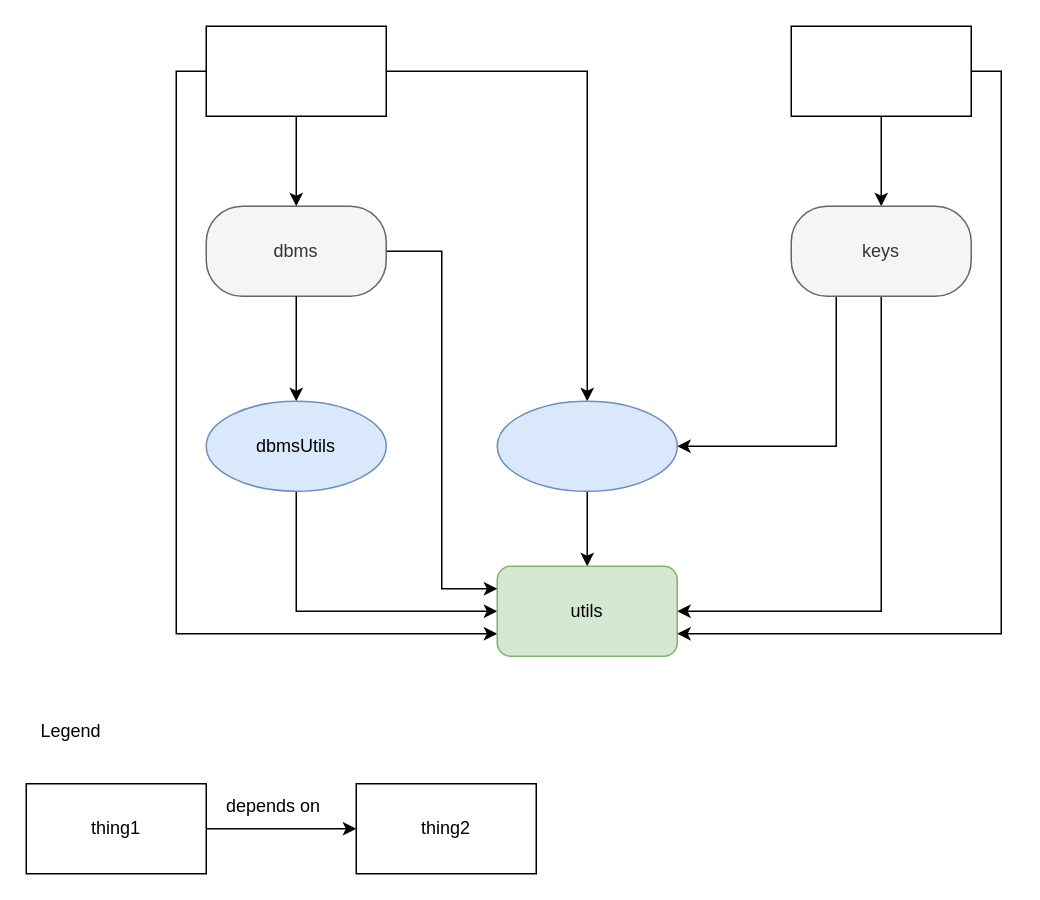
This 1040x900 diagram has some shape labels left out. Each missing label, with the centre of its shape:
"client" goes at point 880,70.
"netUtils" goes at point 586,445.
"server" goes at point 295,70.
